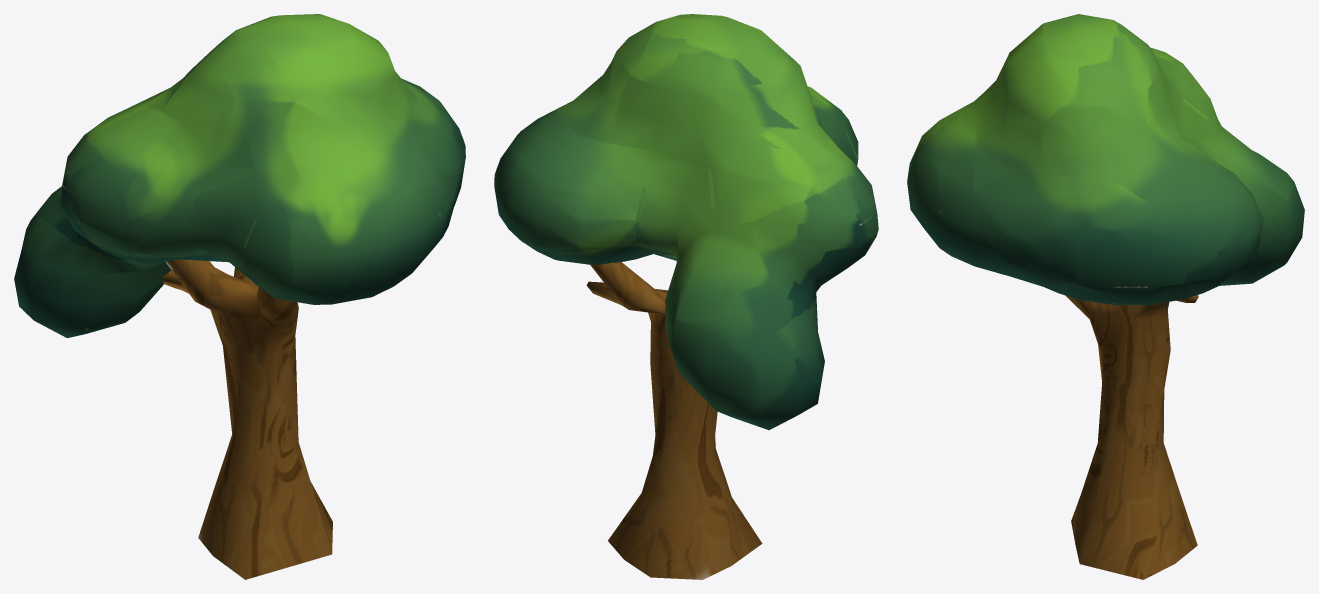
Rendered from tree7.fbx.
3 views of the same model, side by side, from view 1: azimuth 30°, elevation 25°; view 2: azimuth 150°, elevation 25°; view 3: azimuth 270°, elevation 25° (orthographic). The views are drawn at different scales.
Parts seen in each view (by area): view 1: tree.007; view 2: tree.007; view 3: tree.007.
Part boxes in pixels (box(x1,y1,x2,y2)): tree.007: box(14, 14, 465, 579); tree.007: box(494, 14, 878, 579); tree.007: box(907, 14, 1304, 579).
Bounding box in the file's own units: 949 × 1313 × 914.
